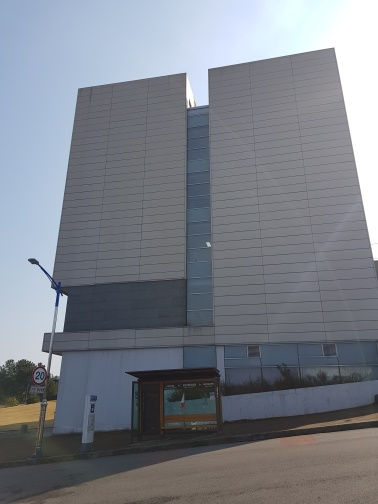Engineering College Building 4: (15, 2, 377, 445), (75, 80, 297, 431), (194, 60, 356, 414)
